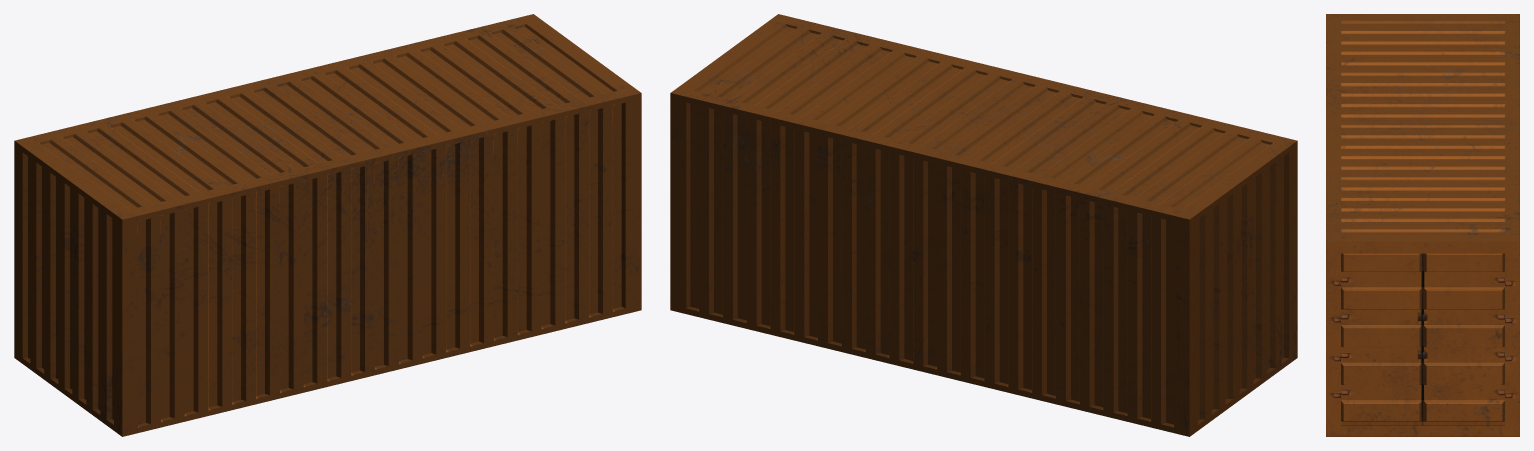
File: contena.fbx
3 views of the same model, side by side, from view 1: azimuth 30°, elevation 25°; view 2: azimuth 150°, elevation 25°; view 3: azimuth 270°, elevation 25° (orthographic). The views are drawn at different scales.
Visible parts, largest first — view 1: Cube; view 2: Cube; view 3: Cube.
Part boxes in pixels (bbox=[...]): Cube: bbox=[14, 14, 641, 436]; Cube: bbox=[670, 14, 1297, 436]; Cube: bbox=[1326, 14, 1519, 436].
Bounding box in the file's own units: 500 × 200 × 180.
